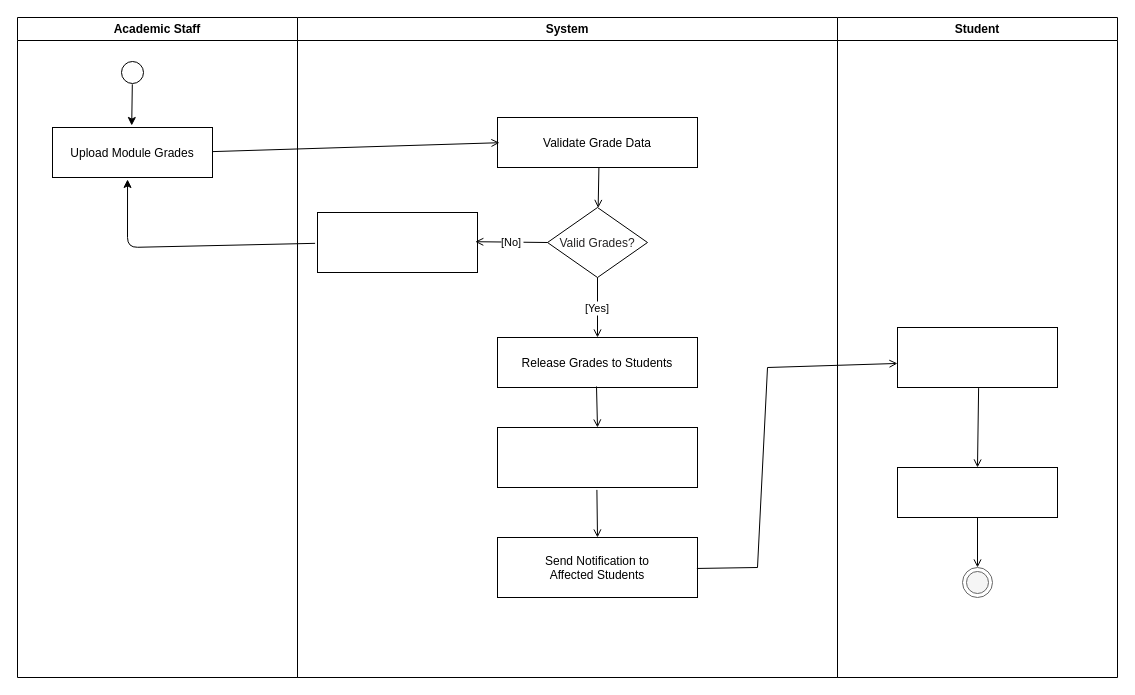
Image size: 1135x695. Some labels were removed from this diagram. Here are the shapes that lost their labels. From the top down, the box of each, then its label:
(316, 212, 478, 272): Show Grade Validation Error Message
(896, 326, 1058, 388): Receive Grade Release Notification
(496, 426, 698, 488): Generate Grade Release Notification
(896, 466, 1058, 518): View Released Grades
